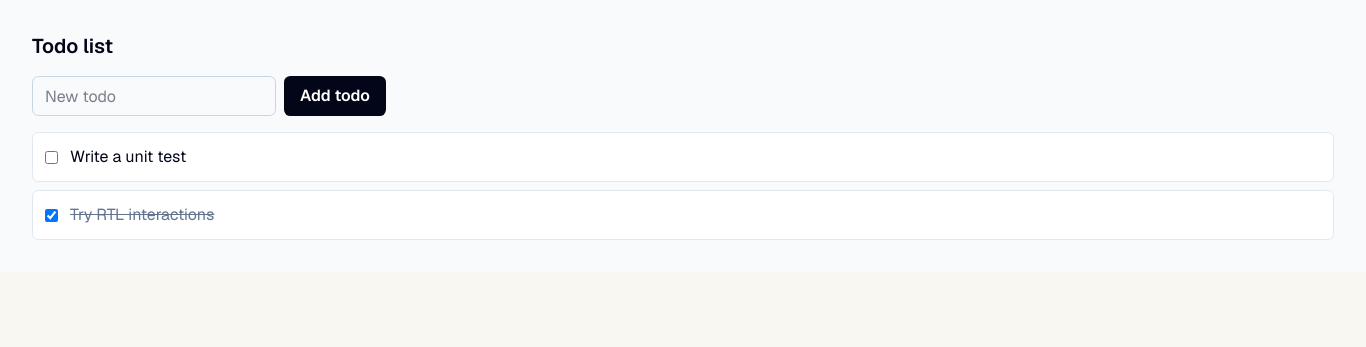
Test: TodoList › adds a new todo item
Type "Review test logs" into the field with test id "todo-input". click: coordinates (154, 96)
box: [32,76,276,116]
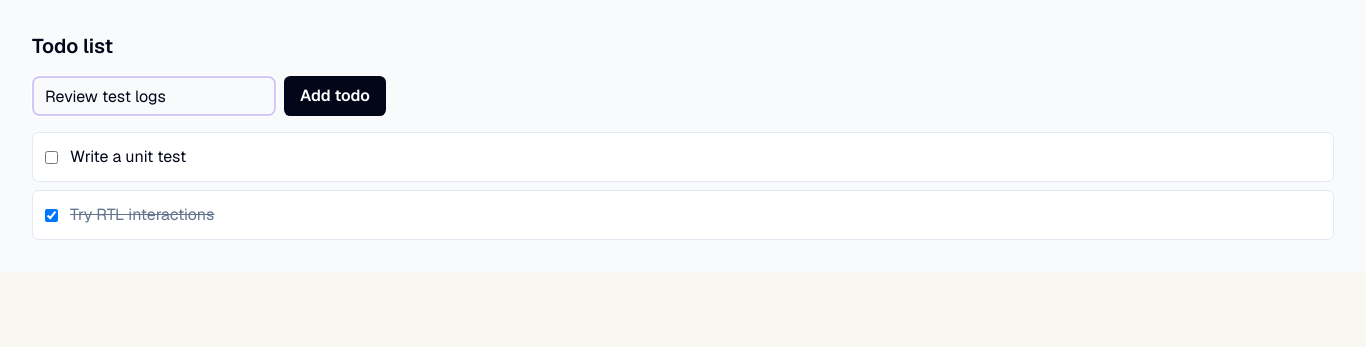
Click the button with test id "todo-add-button". click: coordinates (335, 96)
box: [284,76,386,116]
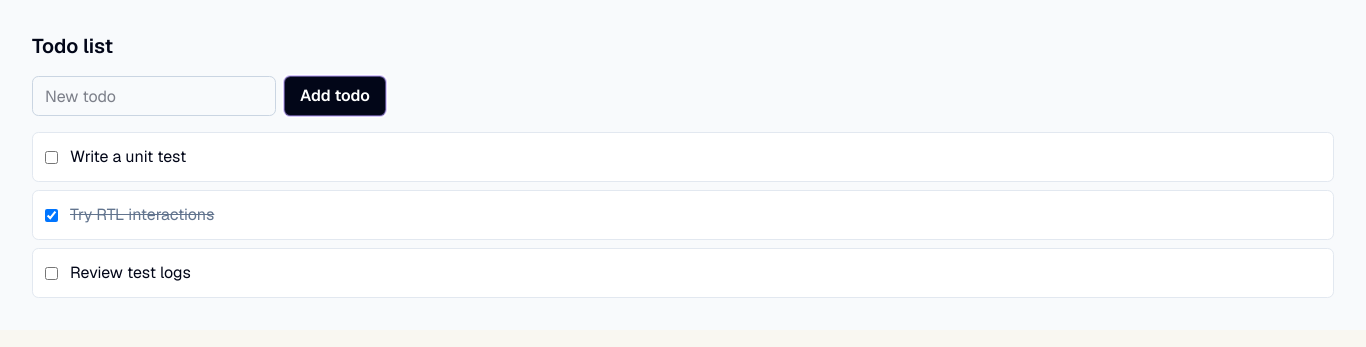
Now the text "Review test logs" is shown, box [70,261,191,285]
Now the number of list items with test id "todo-item" is 3, box [32,132,1334,182]; [32,190,1334,240]; [32,248,1334,298]
Now the field with test id "todo-input" is empty, box [32,76,276,116]
